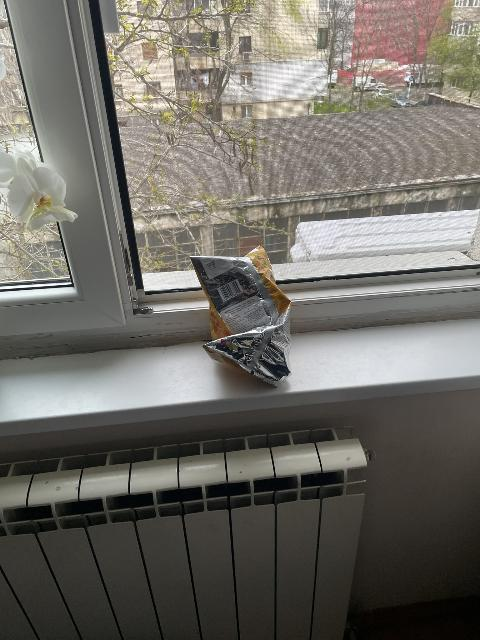Chio Hula Hoops Cheese 70g: (189, 250, 294, 381)
